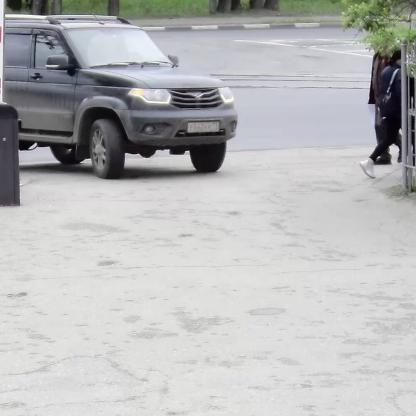plate: (188, 121, 219, 132)
